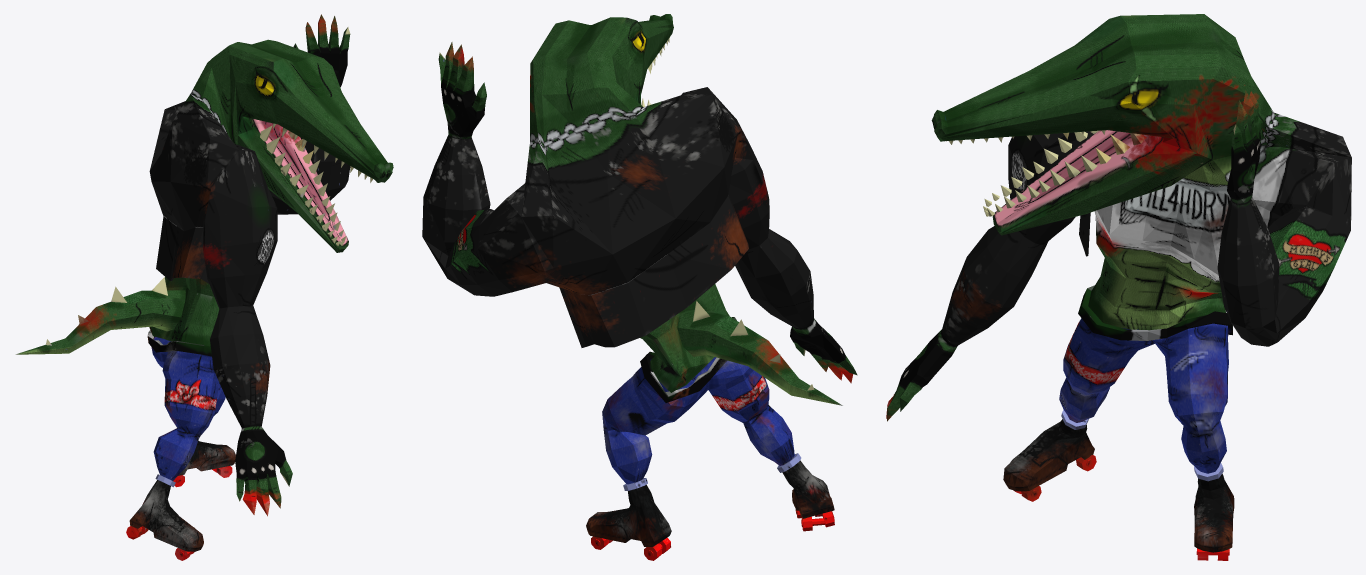
The model's file is cocodrilaBonesSelect_000031.obj.
3 renders of one model, left to right at view 1: azimuth 30°, elevation 25°; view 2: azimuth 150°, elevation 25°; view 3: azimuth 270°, elevation 25°, orthographic. The views are drawn at different scales.
Visible parts, largest first — view 1: Crocodile.002_Cylinder.002; view 2: Crocodile.002_Cylinder.002; view 3: Crocodile.002_Cylinder.002.
Part boxes in pixels (x1,y1,x2,y2): Crocodile.002_Cylinder.002: (15, 14, 393, 560); Crocodile.002_Cylinder.002: (422, 14, 857, 560); Crocodile.002_Cylinder.002: (886, 14, 1351, 560).
Bounding box in the file's own units: 5.21 × 6.21 × 4.69.
